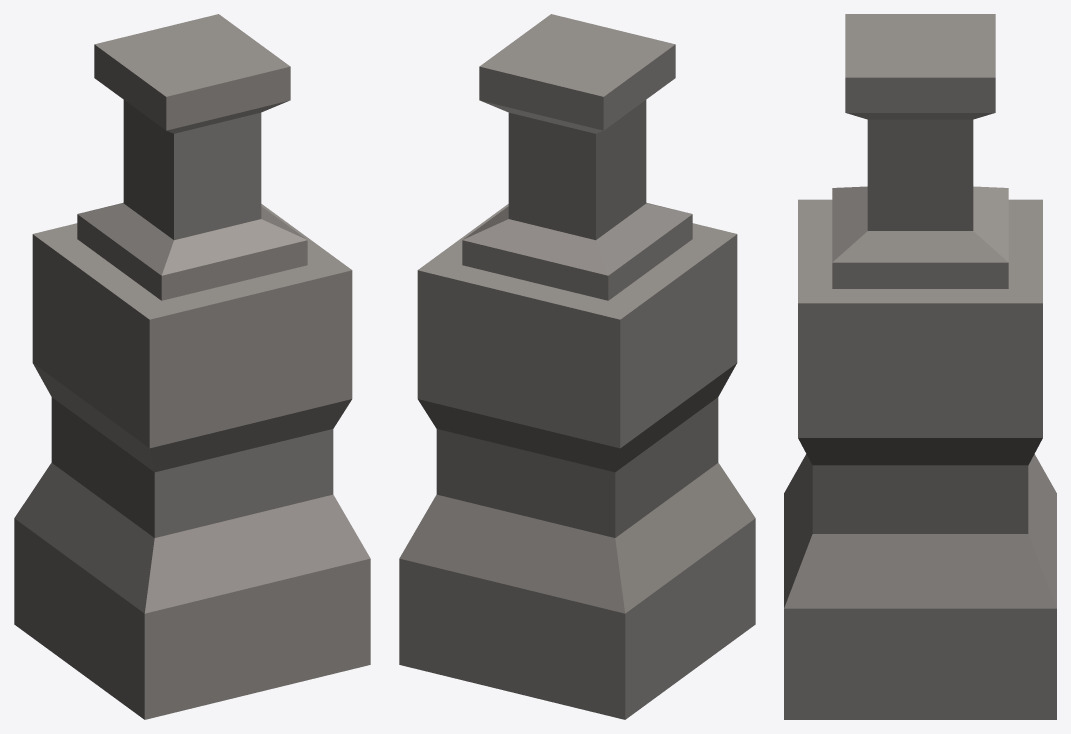
The model's file is SD_Env_Railing_Stone_Pillar_02.fbx.
The picture shows the model from 3 angles, left to right: view 1: azimuth 30°, elevation 25°; view 2: azimuth 150°, elevation 25°; view 3: azimuth 270°, elevation 25°; orthographic projection. The views are drawn at different scales.
Parts seen in each view (by area): view 1: SD_Env_Railing_Stone_Pillar_02; view 2: SD_Env_Railing_Stone_Pillar_02; view 3: SD_Env_Railing_Stone_Pillar_02.
Boxes of the visible parts, bbox=[...] form: SD_Env_Railing_Stone_Pillar_02: bbox=[14, 14, 370, 719]; SD_Env_Railing_Stone_Pillar_02: bbox=[399, 14, 755, 719]; SD_Env_Railing_Stone_Pillar_02: bbox=[784, 14, 1056, 719].
Bounding box in the file's own units: 0.798 × 1.99 × 0.798.
